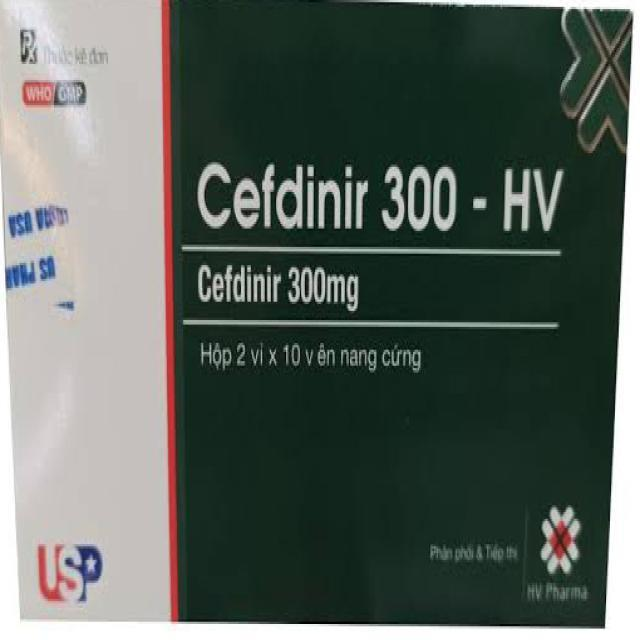drug-name: (194, 156, 564, 234)
